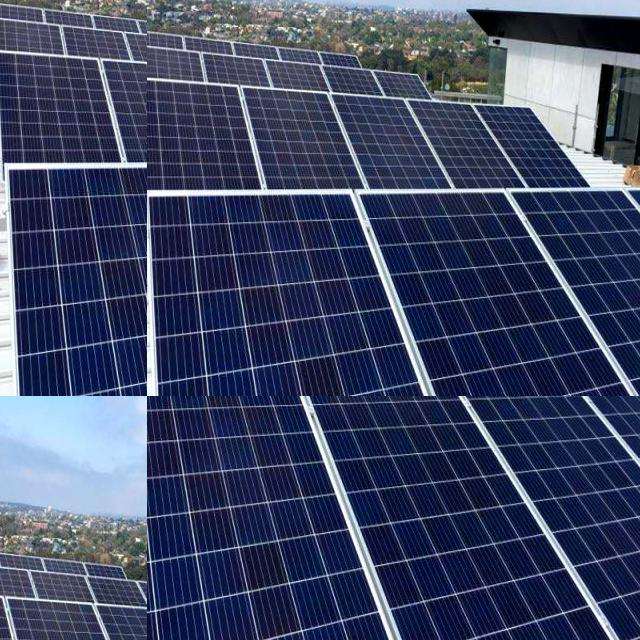crack: (147, 396, 385, 640), (314, 397, 539, 625), (450, 396, 640, 640), (179, 396, 318, 458), (339, 396, 480, 455), (412, 396, 544, 458), (267, 396, 398, 455), (147, 396, 213, 461), (147, 396, 220, 428), (196, 396, 286, 420), (147, 396, 186, 427)
dust: (0, 252, 147, 387), (12, 32, 147, 105), (0, 133, 147, 182), (0, 183, 147, 224), (74, 0, 147, 65), (0, 0, 30, 70)
hotspot: (269, 156, 388, 286)
shadow: (69, 519, 147, 640)
